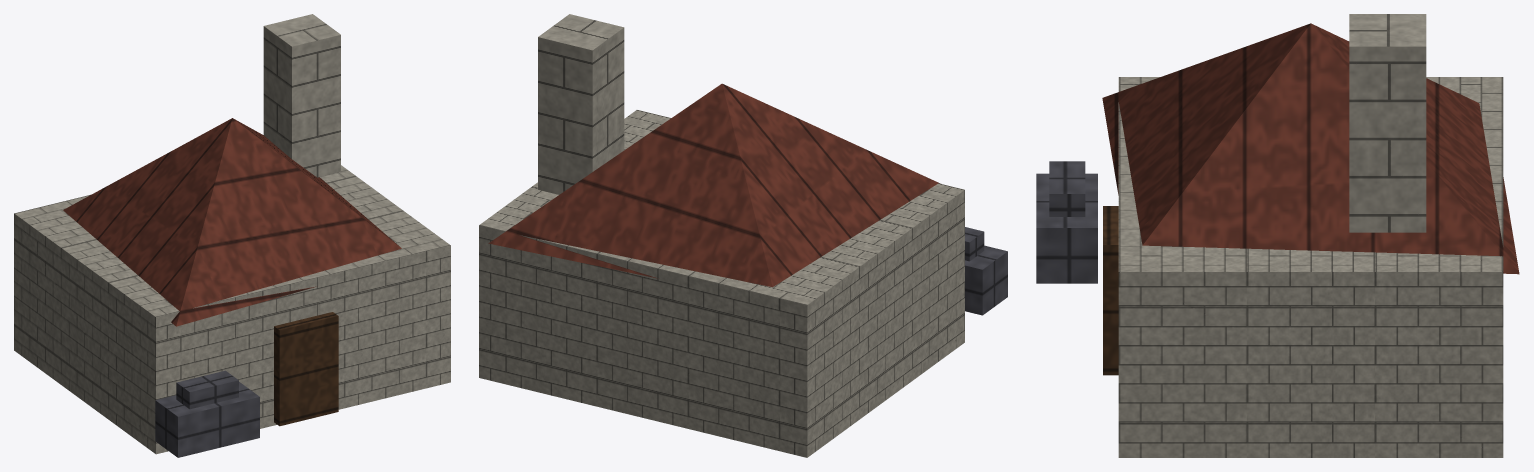
Rendered from S2상점_대장간.fbx.
3 views of the same model, side by side, from view 1: azimuth 30°, elevation 25°; view 2: azimuth 150°, elevation 25°; view 3: azimuth 270°, elevation 25° (orthographic). The views are drawn at different scales.
Parts seen in each view (by area): view 1: Cube, Cone, Cube.001, Cube.004, Cube.002, Cube.003; view 2: Cube, Cone, Cube.001, Cube.002, Cube.003; view 3: Cube, Cone, Cube.001, Cube.002, Cube.004, Cube.003.
Boxes of the visible parts, x1,y1,x2,y2 form: Cube: (14, 165, 450, 454); Cone: (63, 118, 401, 326); Cube.001: (263, 14, 340, 177); Cube.004: (274, 312, 338, 426); Cube.002: (155, 382, 259, 457); Cube.003: (176, 370, 238, 409); Cube: (479, 110, 964, 457); Cone: (488, 83, 940, 287); Cube.001: (538, 14, 624, 194); Cube.002: (965, 245, 1007, 315); Cube.003: (965, 227, 984, 261); Cube: (1118, 77, 1503, 457); Cone: (1102, 23, 1519, 274); Cube.001: (1349, 14, 1426, 232); Cube.002: (1036, 173, 1097, 283); Cube.004: (1103, 206, 1118, 375); Cube.003: (1049, 161, 1085, 216).
Bounding box in the file's own units: 1.85 × 1.7 × 1.88.
